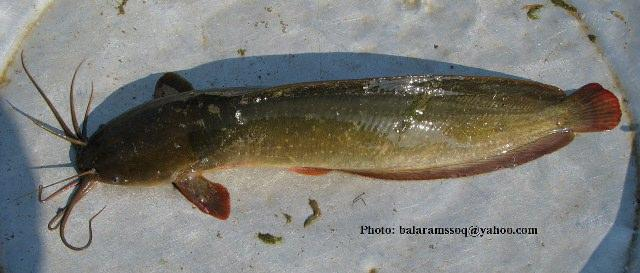Sirip Anal: (344, 126, 582, 186)
Sirip Dada: (166, 160, 244, 230), (140, 61, 202, 117)
Sirip Ekor: (536, 66, 630, 152)
Sirip Perut: (279, 156, 337, 190)
Sirip Punggung: (243, 56, 572, 116)
